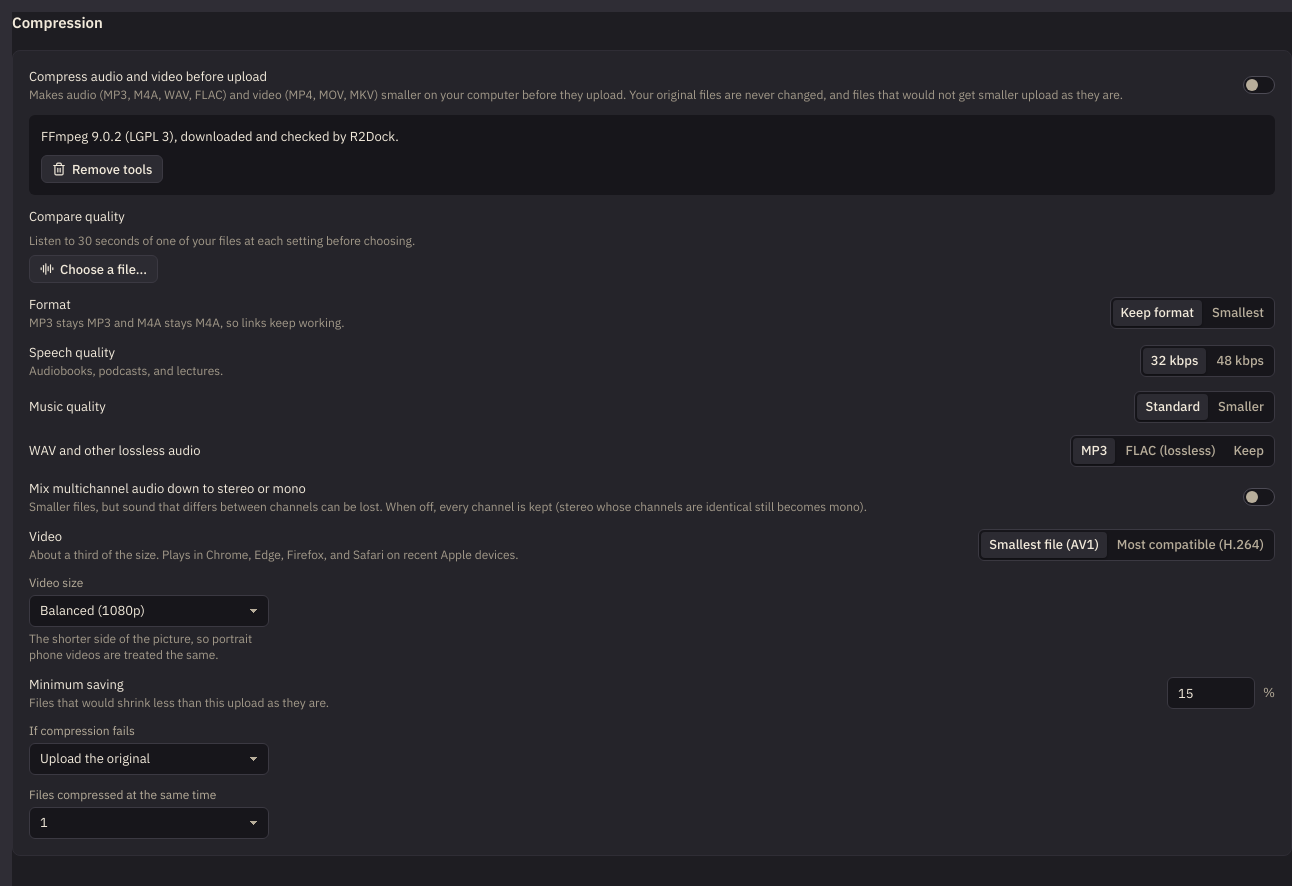
it: CompressionSection › plays quality samples
Click the button "Choose a file..." at (94, 269), box [29,255,158,283]
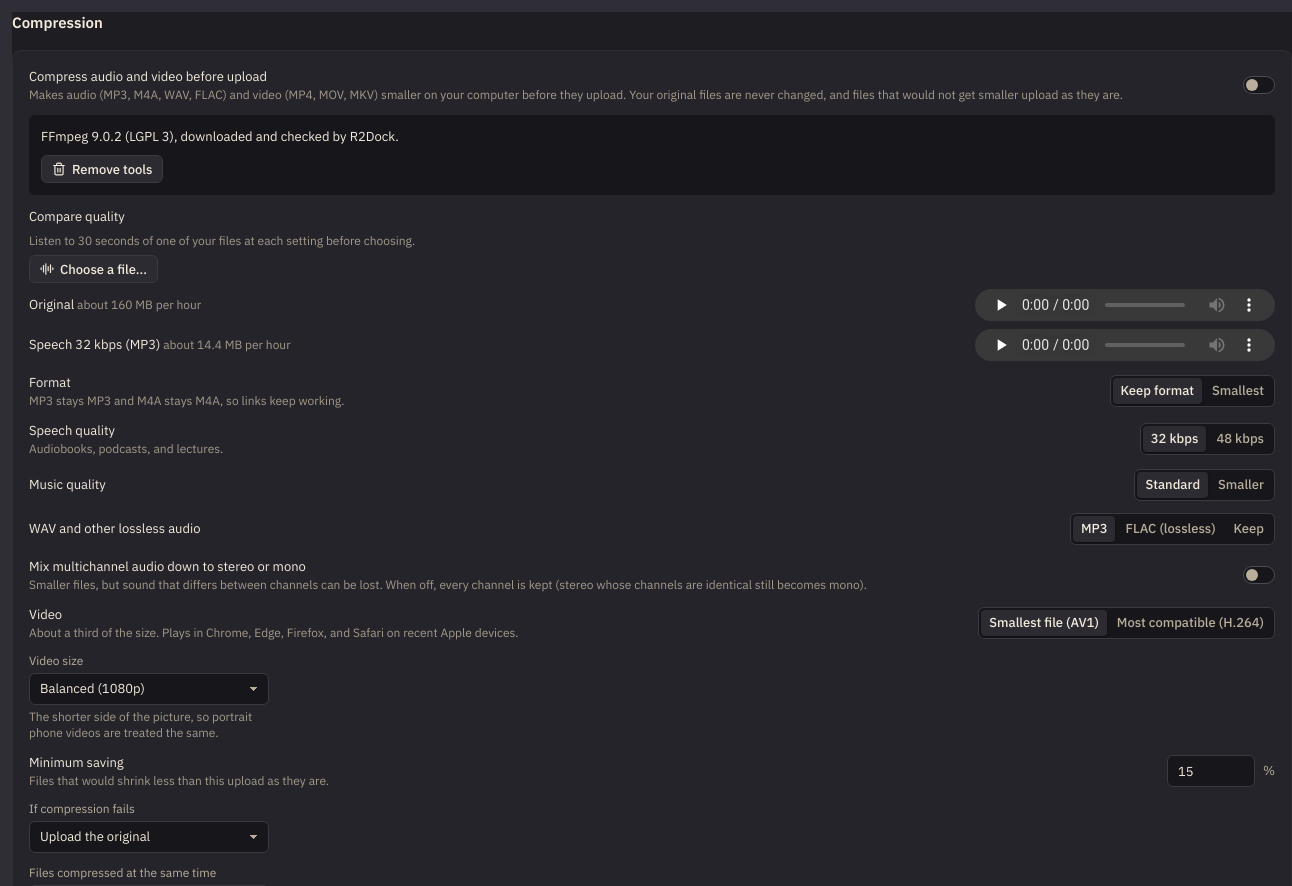
Result: the text "Speech 32 kbps (MP3) about 14.4 MB per hour" is shown at [29,335,291,355]
Result: the text "about 14.4 MB per hour" is shown at [160,337,291,352]
